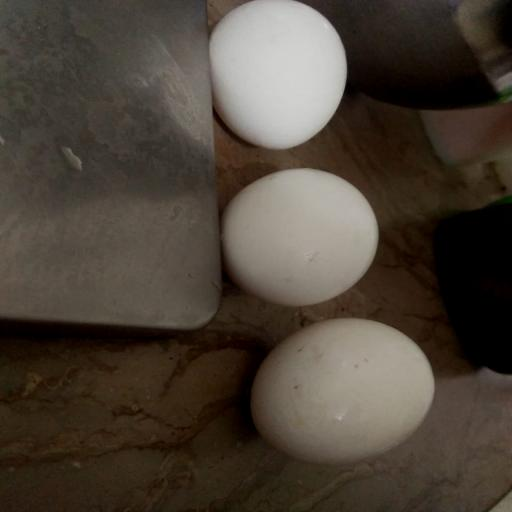telur: (249, 317, 438, 463), (221, 168, 382, 308), (209, 0, 350, 150)
